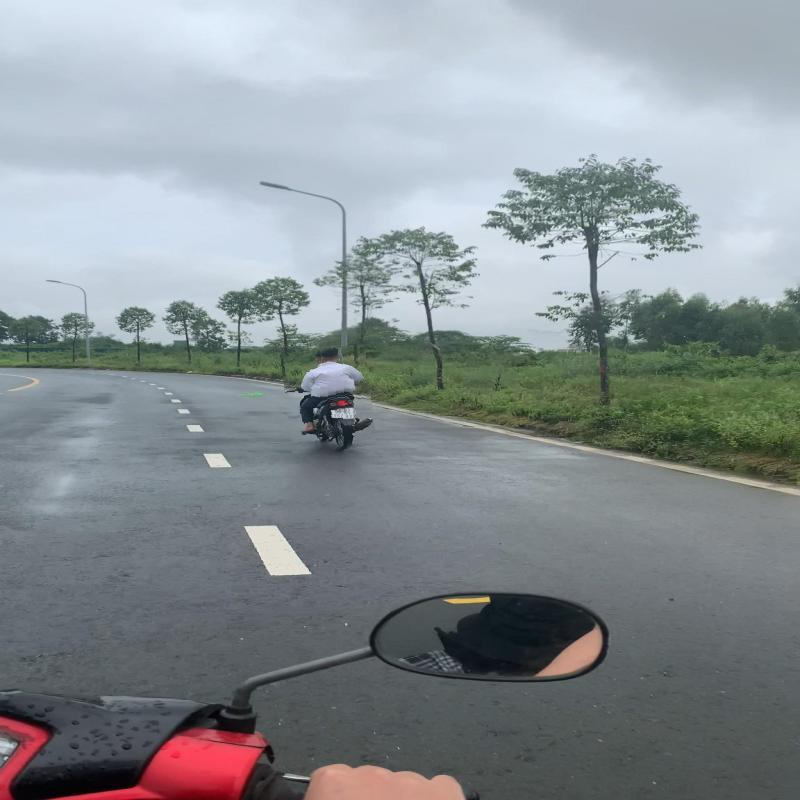licenseplate: (330, 411, 355, 420)
motorcyclist: (283, 346, 374, 454)
nohelmet: (321, 349, 339, 362)
